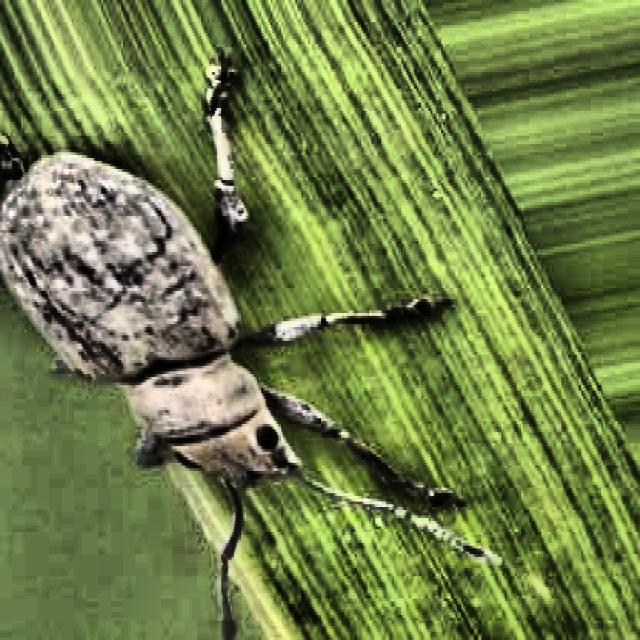Stink bug: (4, 72, 358, 634)
